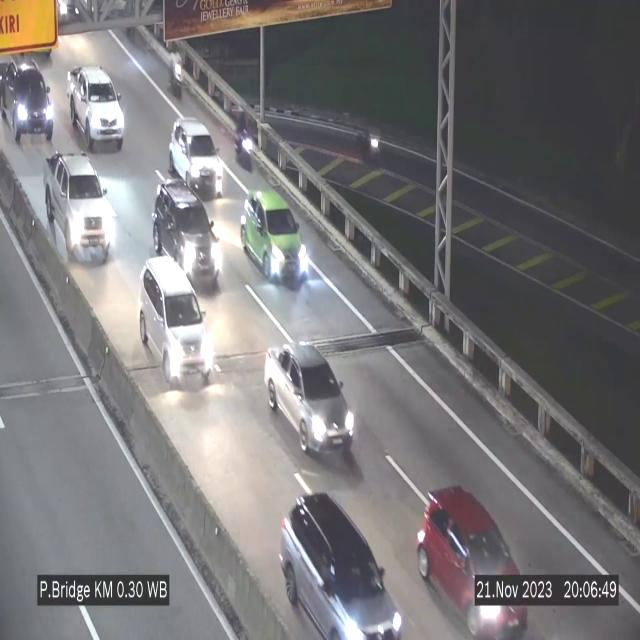Car: (415, 464, 533, 639), (281, 492, 402, 640), (264, 342, 356, 456), (140, 258, 214, 385), (44, 152, 116, 270), (154, 177, 226, 292), (240, 186, 308, 282), (0, 55, 58, 145), (67, 66, 125, 149), (169, 119, 223, 197)
Motorcycle: (233, 102, 257, 180), (167, 38, 184, 103)
